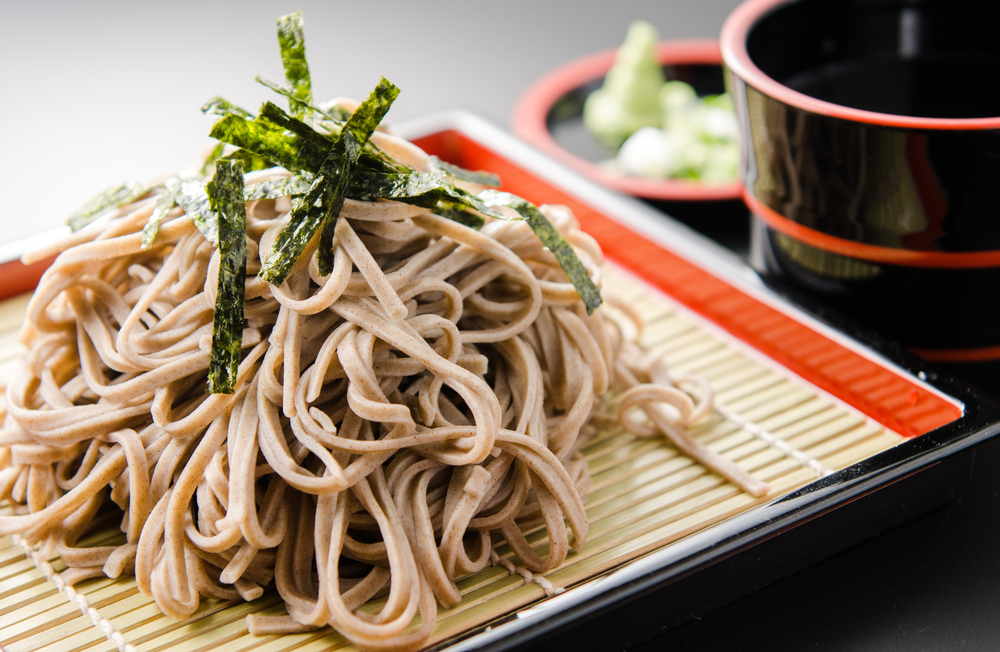Soba: (3, 152, 727, 612)
